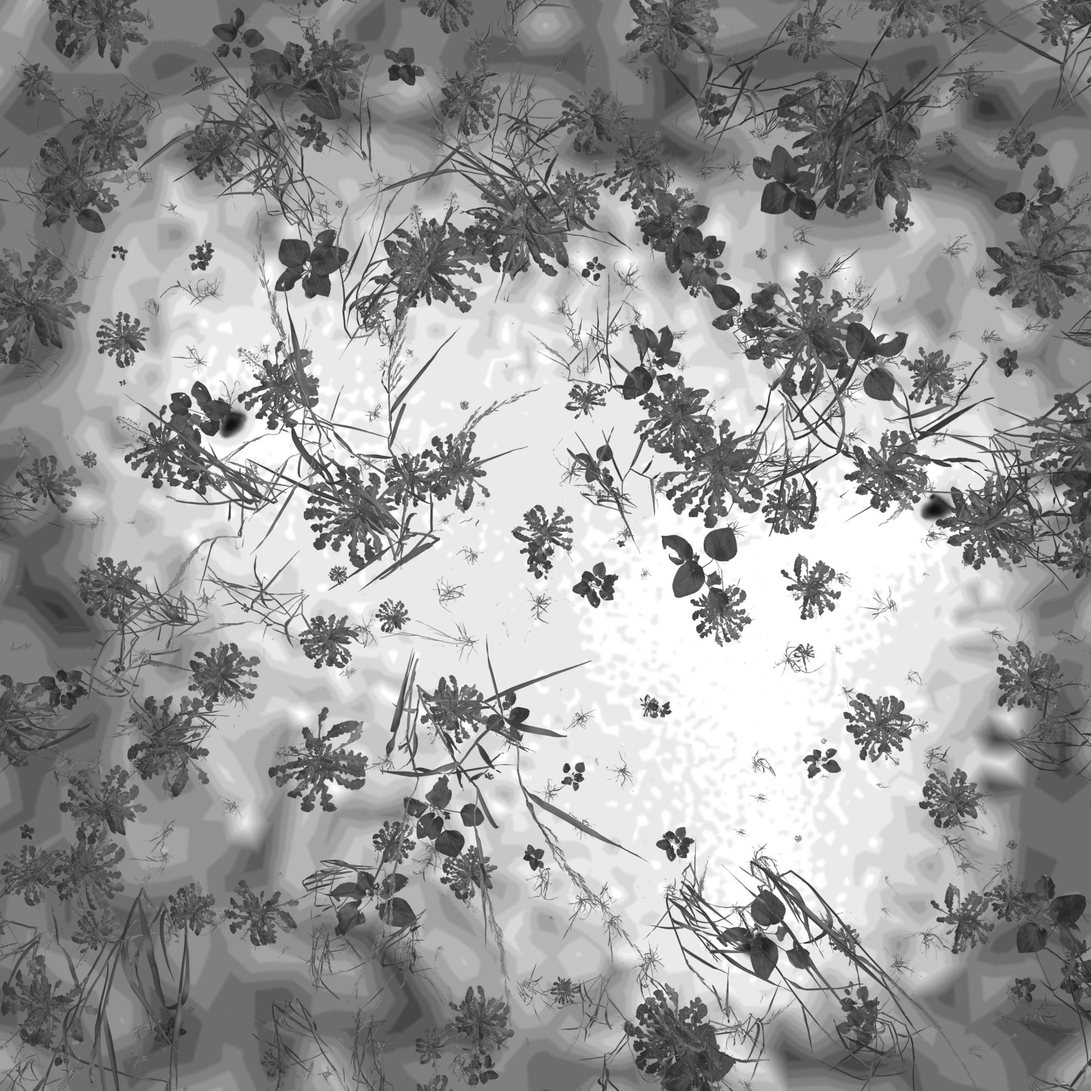landmine: (918, 473, 967, 523), (214, 380, 252, 440)
